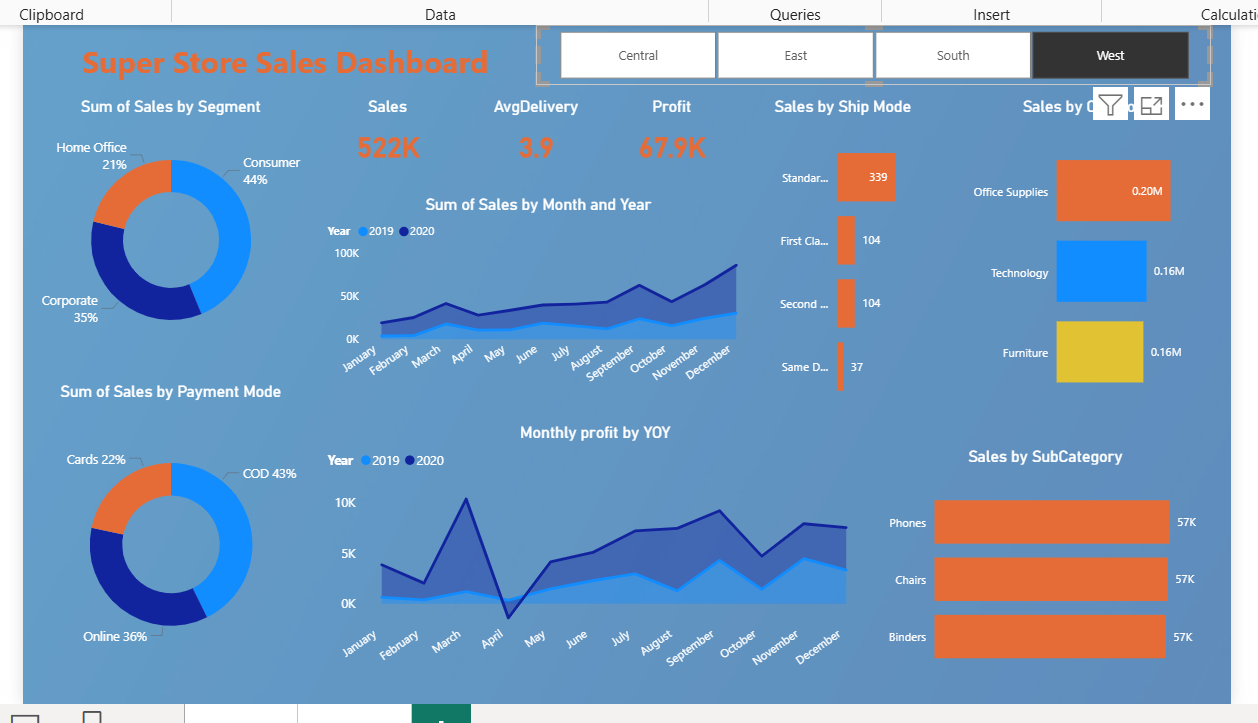

Layout of this report page (visuals, bound fields, positions):
{"tool":"powerbi","page":{"name":"Page 1","canvas":[1280,720],"ordinal":0},"visuals":[{"type":"clusteredBarChart","title":"Sales by Category","fields":{"Category":["SuperStore_Sales_Dataset.Category"],"Y":["Sum(SuperStore_Sales_Dataset.Sales)"]},"box":[995.7,76.3,264,345.2],"z":0},{"type":"clusteredBarChart","title":"Sales by SubCategory","fields":{"Y":["Sum(SuperStore_Sales_Dataset.Sales)"],"Category":["SuperStore_Sales_Dataset.Sub-Category"]},"box":[908.2,447,351.5,256.1],"z":1000},{"type":"clusteredBarChart","title":"Sales by Ship Mode","fields":{"Y":["CountNonNull(SuperStore_Sales_Dataset.Category)"],"Category":["SuperStore_Sales_Dataset.Ship Mode"]},"box":[785.8,76.3,167,345.2],"z":2000},{"type":"stackedAreaChart","fields":{"Y":["Sum(SuperStore_Sales_Dataset.Sales)"],"Category":["SuperStore_Sales_Dataset.Order Date.Variation.Date Hierarchy.Month","SuperStore_Sales_Dataset.Order Date.Variation.Date Hierarchy.Day"],"Series":["SuperStore_Sales_Dataset.Order Date.Variation.Date Hierarchy.Year"]},"box":[318.1,179.7,456.5,221.1],"z":3000},{"type":"stackedAreaChart","title":"Monthly profit by YOY","fields":{"Category":["SuperStore_Sales_Dataset.Order Date.Variation.Date Hierarchy.Month","SuperStore_Sales_Dataset.Order Date.Variation.Date Hierarchy.Day"],"Series":["SuperStore_Sales_Dataset.Order Date.Variation.Date Hierarchy.Year"],"Y":["Sum(SuperStore_Sales_Dataset.Profit)"]},"box":[318.1,421.5,577.4,281.5],"z":4000},{"type":"donutChart","fields":{"Category":["SuperStore_Sales_Dataset.Segment"],"Y":["Sum(SuperStore_Sales_Dataset.Sales)"]},"box":[12.7,76.3,287.9,283.1],"z":6000},{"type":"donutChart","fields":{"Category":["SuperStore_Sales_Dataset.Payment Mode"],"Y":["Sum(SuperStore_Sales_Dataset.Sales)"]},"box":[12.7,378.6,287.9,324.5],"z":7000},{"type":"slicer","fields":{"Values":["SuperStore_Sales_Dataset.Region"]},"box":[544,0,715.8,63.6],"z":8000},{"type":"textbox","box":[12.7,11.1,531.3,52.5],"z":9000},{"type":"card","title":"Sales","fields":{"Values":["Sum(SuperStore_Sales_Dataset.Sales)"]},"box":[318.1,76.3,136.8,82.7],"z":10000},{"type":"card","title":"AvgDelivery","fields":{"Values":["Avg(SuperStore_Sales_Dataset.AvgDelivery)"]},"box":[480.4,76.3,127.2,82.7],"z":11000},{"type":"card","title":"Profit","fields":{"Values":["Sum(SuperStore_Sales_Dataset.Profit)"]},"box":[623.5,76.3,128.8,82.7],"z":12000}]}

Visuals, with their boxes on the page's 1280x720 design canvas (x1, y1, x2, y2). These are canvas units, not pixel positions in the 1258x723 screenshot, which may show the page scaled, cropped or inside an application window:
"Sales by Category" clusteredBarChart: x1=996 y1=76 x2=1260 y2=422
"Sales by SubCategory" clusteredBarChart: x1=908 y1=447 x2=1260 y2=703
"Sales by Ship Mode" clusteredBarChart: x1=786 y1=76 x2=953 y2=422
stackedAreaChart - Sum(SuperStore_Sales_Dataset.Sales) x SuperStore_Sales_Dataset.Order Date.Variation.Date Hierarchy.Month: x1=318 y1=180 x2=775 y2=401
"Monthly profit by YOY" stackedAreaChart: x1=318 y1=422 x2=896 y2=703
donutChart - SuperStore_Sales_Dataset.Segment x Sum(SuperStore_Sales_Dataset.Sales): x1=13 y1=76 x2=301 y2=359
donutChart - SuperStore_Sales_Dataset.Payment Mode x Sum(SuperStore_Sales_Dataset.Sales): x1=13 y1=379 x2=301 y2=703
slicer - SuperStore_Sales_Dataset.Region: x1=544 y1=0 x2=1260 y2=64
textbox: x1=13 y1=11 x2=544 y2=64
"Sales" card: x1=318 y1=76 x2=455 y2=159
"AvgDelivery" card: x1=480 y1=76 x2=608 y2=159
"Profit" card: x1=624 y1=76 x2=752 y2=159
